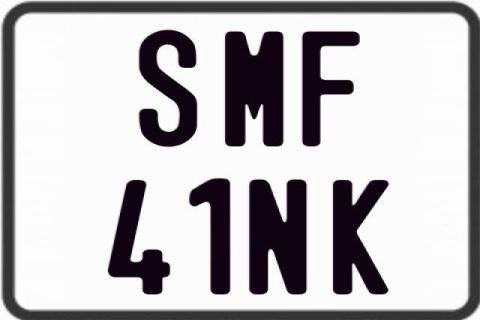0: (107, 177, 175, 297), (188, 177, 232, 293)
F: (300, 31, 362, 150)
K: (333, 178, 393, 294)
M: (222, 29, 280, 145)
N: (249, 177, 309, 293)
S: (140, 27, 200, 144)
